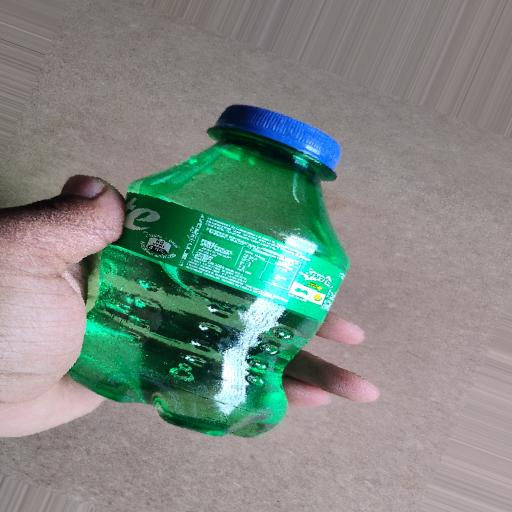Sprite: (47, 56, 395, 459)
